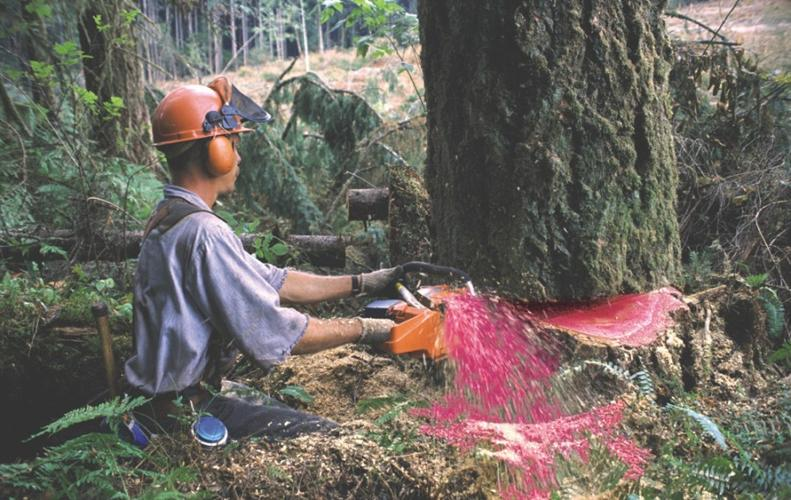person: (121, 84, 413, 444)
